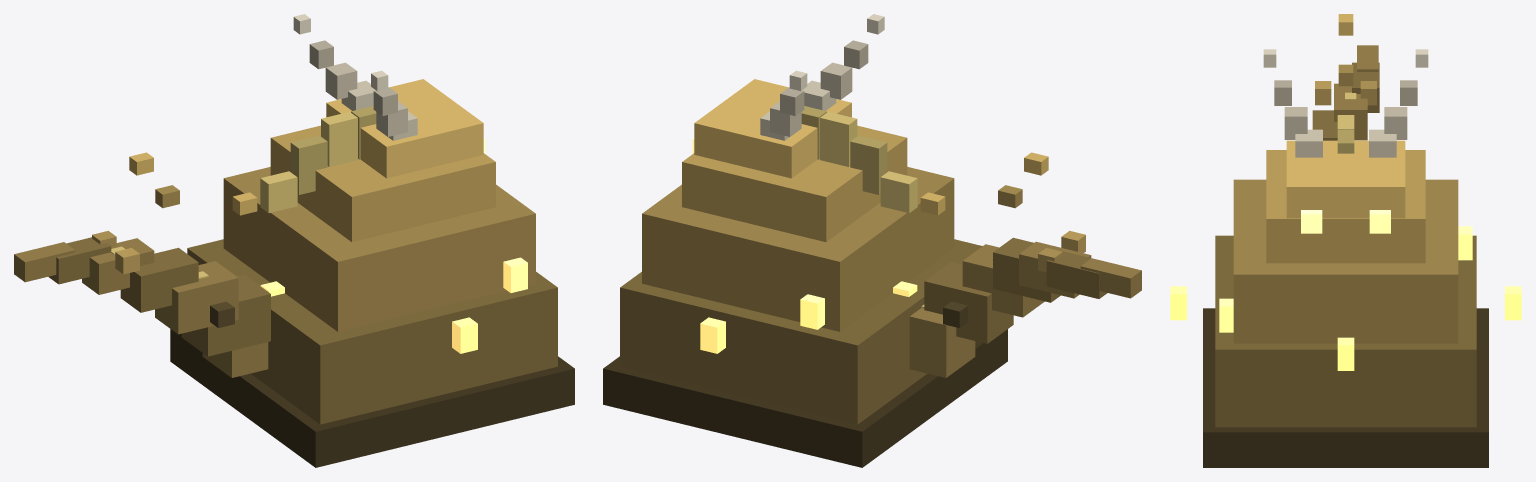
Rendered from drake-badland-slime.glb.
3 renders of one model, left to right at view 1: azimuth 30°, elevation 25°; view 2: azimuth 150°, elevation 25°; view 3: azimuth 270°, elevation 25°, orthographic.
Visible parts, largest first — view 1: Body, Tail, Head, Scales, Horns, Runes, Trim; view 2: Body, Tail, Head, Scales, Horns, Runes, Trim; view 3: Body, Head, Horns, Tail, Runes, Scales, Eyes, Trim.
Part boxes in pixels (<box>): Body: <box>170,125,574,467</box>; Tail: <box>14,237,270,377</box>; Head: <box>326,79,483,178</box>; Scales: <box>92,106,376,327</box>; Horns: <box>293,14,417,140</box>; Runes: <box>260,257,527,353</box>; Trim: <box>129,152,257,215</box>; Body: <box>603,125,1007,467</box>; Tail: <box>909,237,1141,377</box>; Head: <box>694,79,851,178</box>; Scales: <box>801,106,1085,327</box>; Horns: <box>760,14,884,140</box>; Runes: <box>700,281,917,353</box>; Trim: <box>920,152,1048,215</box>; Body: <box>1203,150,1488,467</box>; Head: <box>1286,140,1405,218</box>; Horns: <box>1263,49,1428,157</box>; Tail: <box>1312,45,1379,140</box>; Runes: <box>1170,226,1521,370</box>; Scales: <box>1315,81,1376,153</box>; Eyes: <box>1301,210,1390,233</box>; Trim: <box>1338,14,1353,86</box>.
Bounding box in the file's own units: 6.55 × 4.58 × 4.3.
